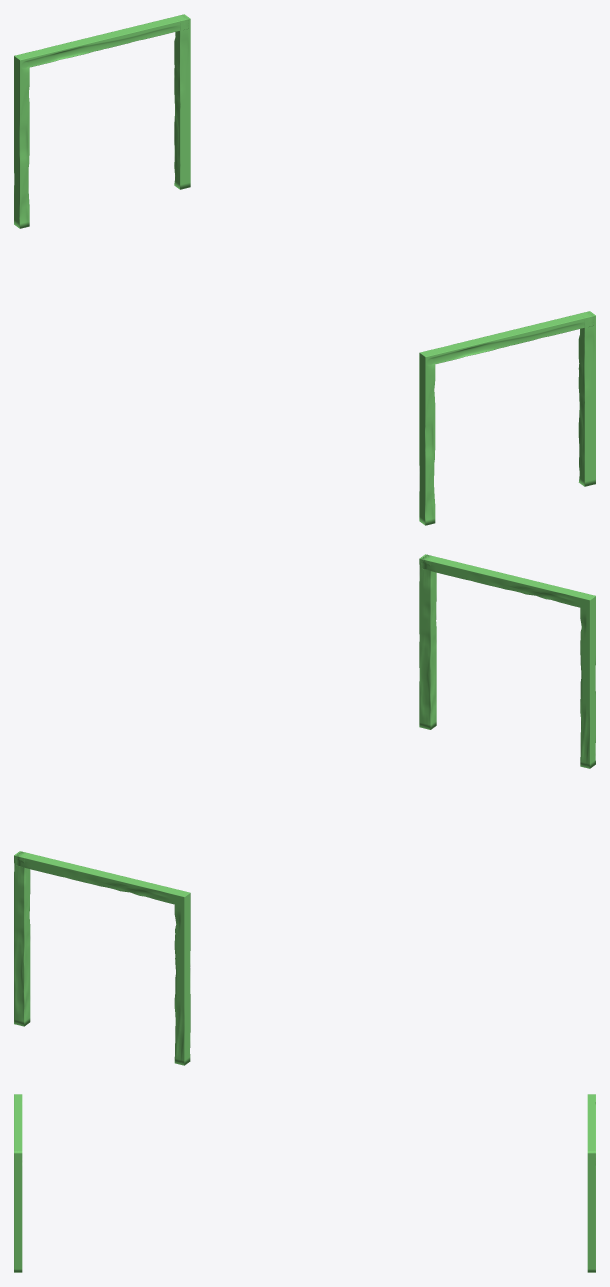
File: protector_duo.glb
3 views of the same model, one above another, from view 1: azimuth 30°, elevation 25°; view 2: azimuth 150°, elevation 25°; view 3: azimuth 270°, elevation 25° (orthographic). The views are drawn at different scales.
Parts seen in each view (by area): view 1: Протектор; view 2: Протектор; view 3: Протектор.
Boxes of the visible parts, <box> form: Протектор: <box>14,14,595,525</box>; Протектор: <box>14,554,595,1065</box>; Протектор: <box>14,1094,595,1272</box>.
Bounding box in the file's own units: 2.44 × 2.3 × 10.18.
